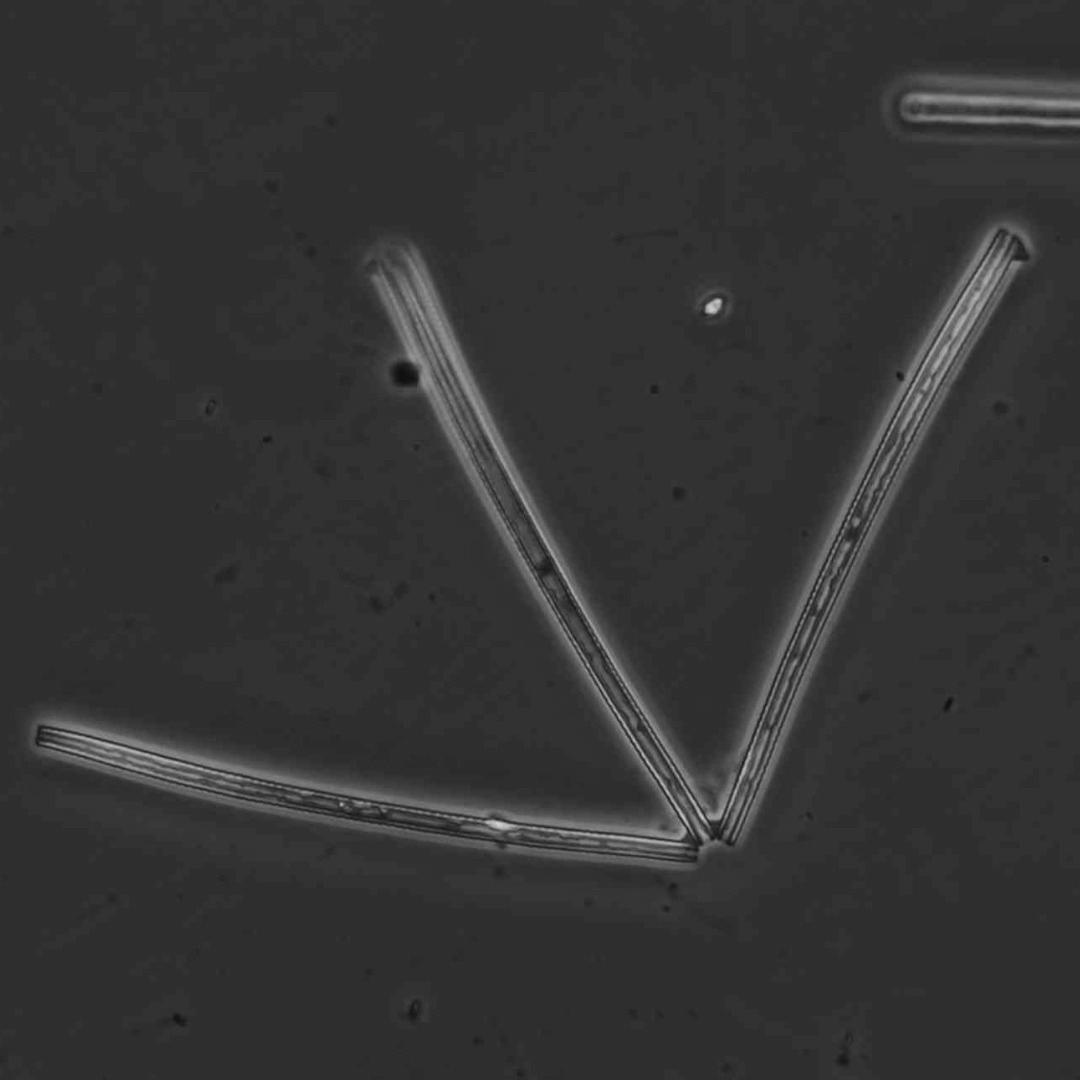thalassionema_nitzschioides: (38, 232, 1018, 858)
